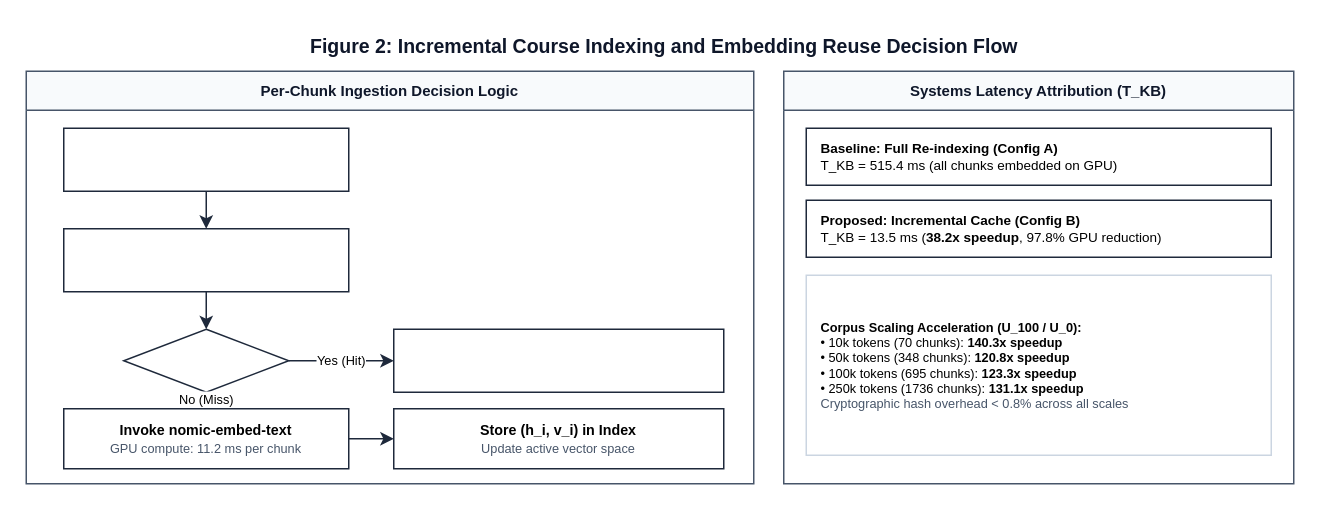
Image size: 1320x510. Some labels were removed from this diagram. The box of each missing label's shape, as (x1, y1, x2, y2) in pixels:
1. Normalized Chunk (d_i) Course text / code segment (~500 chars): (62, 127, 349, 191)
2. SHA-256 Hash Computation h_i = SHA256(model_tag : d_i) [< 0.02 ms]: (62, 227, 349, 292)
In Cache?: (122, 328, 289, 392)
Reuse Stored Embedding Vector T_embed = 0.00 ms (GPU Bypassed): (392, 328, 724, 392)
